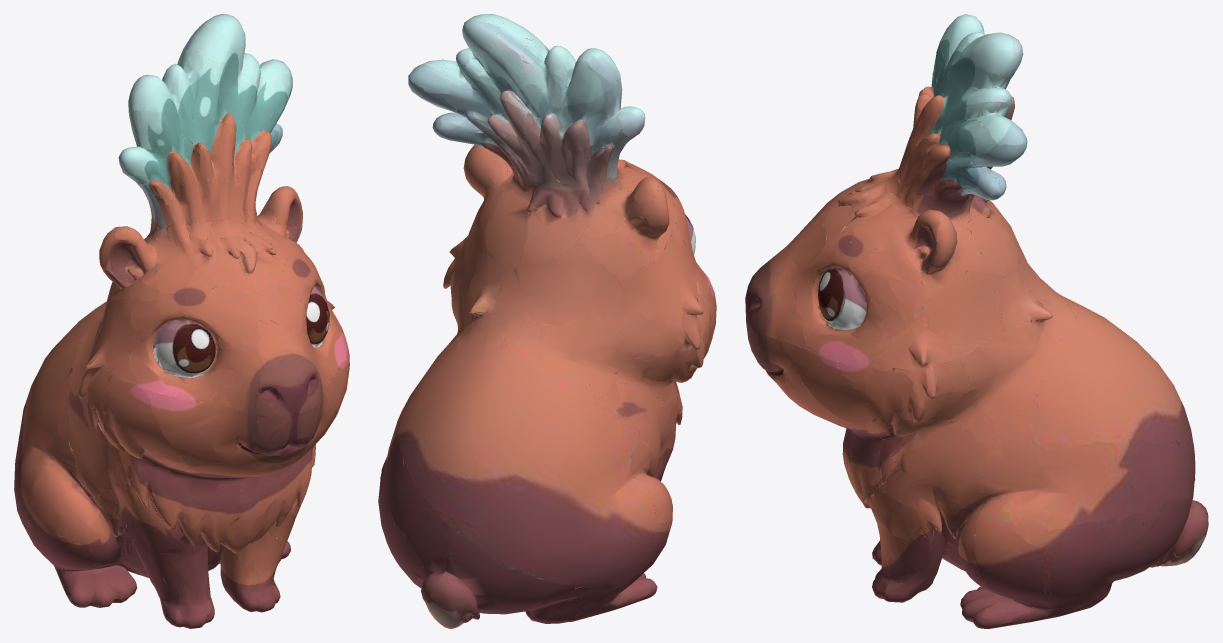
The picture shows the model from 3 angles, left to right: view 1: azimuth 30°, elevation 25°; view 2: azimuth 150°, elevation 25°; view 3: azimuth 270°, elevation 25°; orthographic projection. The views are drawn at different scales.
Parts seen in each view (by area): view 1: Mesh_0; view 2: Mesh_0; view 3: Mesh_0.
Part boxes in pixels (x1,y1,x2,y2): Mesh_0: [14, 14, 349, 628]; Mesh_0: [378, 14, 716, 628]; Mesh_0: [745, 14, 1208, 628].
Bounding box in the file's own units: 0.9541 × 1.9 × 1.4.
1 material, 1 textured.
